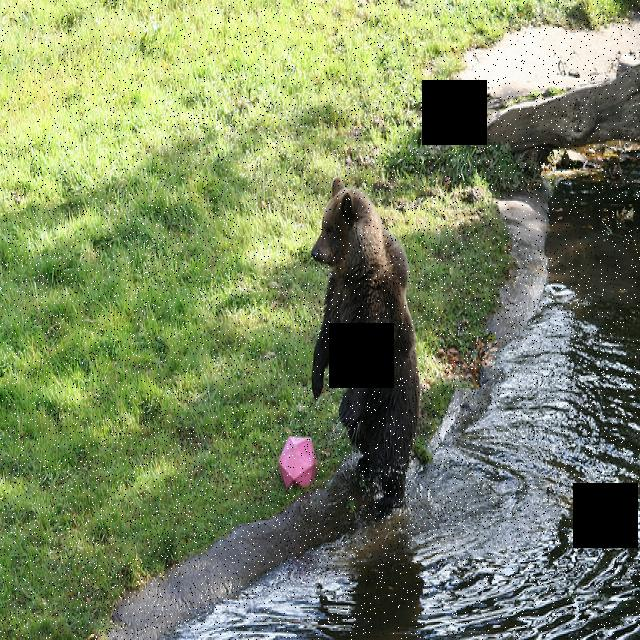Bear: (304, 170, 422, 510)
